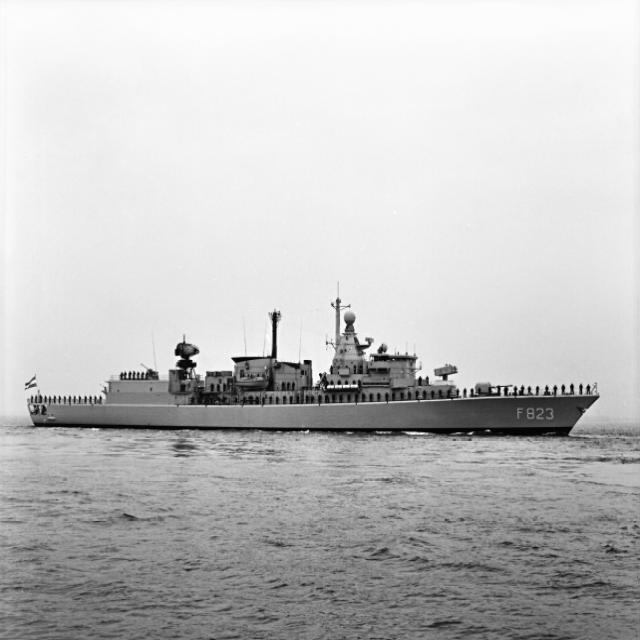Fragata: (17, 280, 606, 443)
